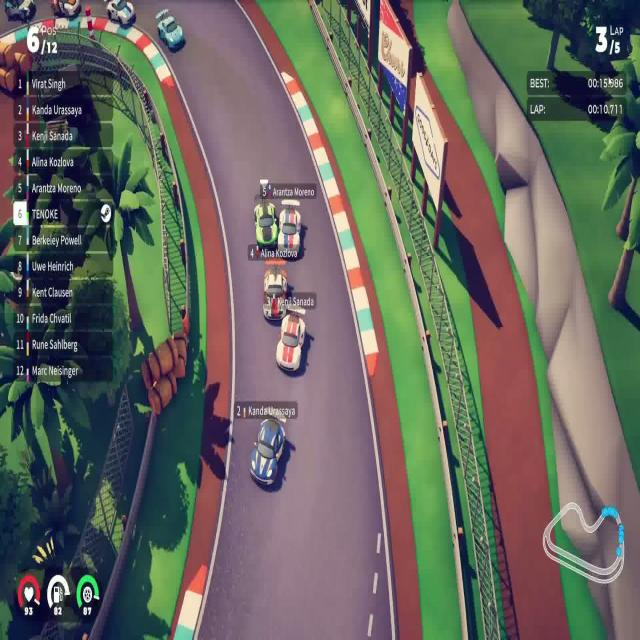car: (249, 416, 286, 487), (275, 310, 306, 372), (262, 266, 289, 322), (276, 204, 302, 259), (253, 200, 278, 252), (157, 14, 184, 52)
